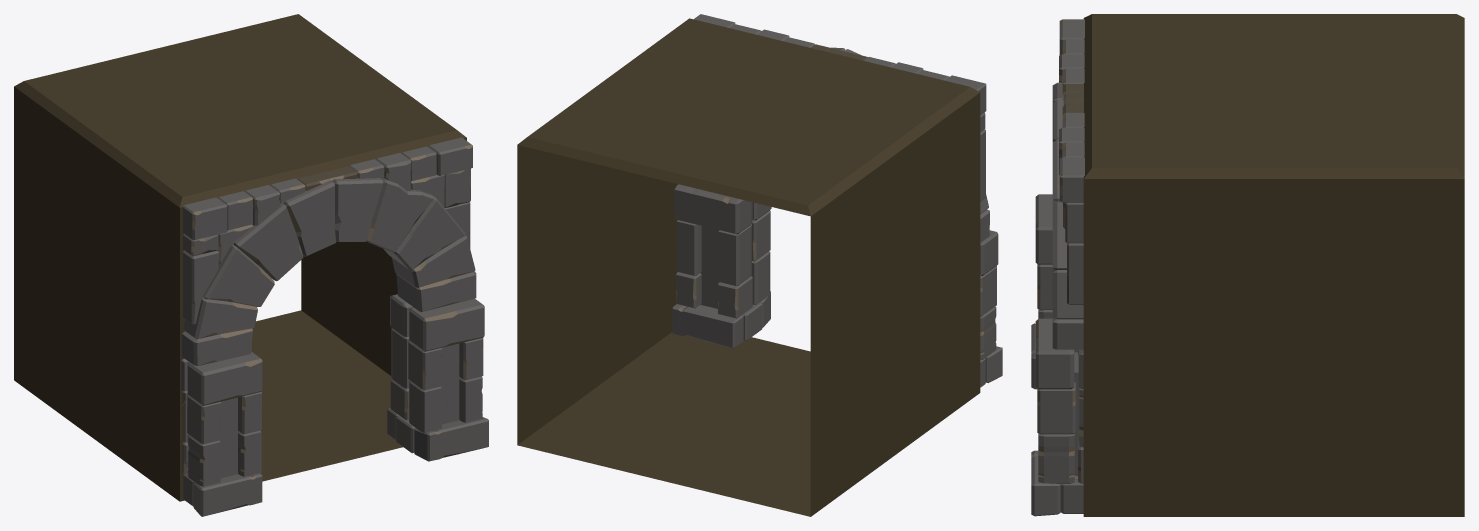
The model's file is арка 1.fbx.
3 renders of one model, left to right at view 1: azimuth 30°, elevation 25°; view 2: azimuth 150°, elevation 25°; view 3: azimuth 270°, elevation 25°, orthographic. The views are drawn at different scales.
Parts seen in each view (by area): view 1: Cube, Arch.001, Arch.003, Arch.002; view 2: Cube, Arch.001; view 3: Cube, Arch.001, Arch.003, Arch.002.
Boxes of the visible parts, x1,y1,x2,y2 form: Cube: [14, 14, 466, 501]; Arch.001: [181, 137, 488, 516]; Arch.003: [182, 144, 483, 509]; Arch.002: [297, 166, 357, 190]; Cube: [517, 18, 980, 516]; Arch.001: [672, 14, 1002, 387]; Cube: [1083, 14, 1464, 516]; Arch.001: [1031, 19, 1084, 516]; Arch.003: [1031, 19, 1083, 482]; Arch.002: [1062, 84, 1083, 113].
Size of the model in its own units: 198 by 197 by 224.
